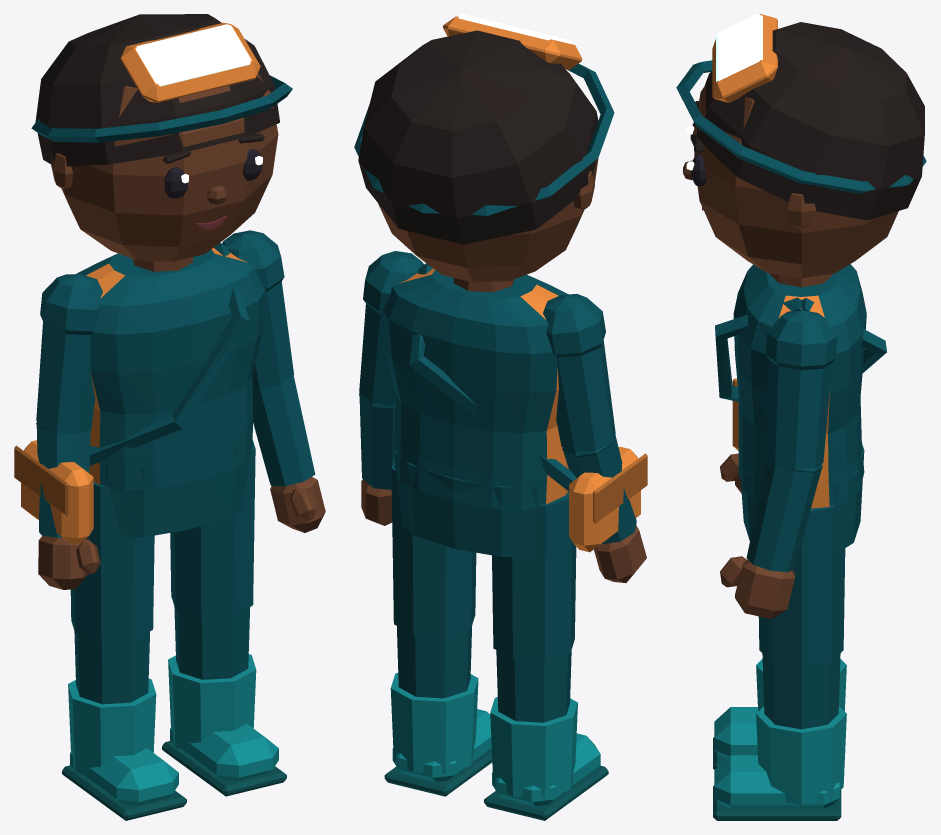
File: cor-k1.glb
The picture shows the model from 3 angles, left to right: view 1: azimuth 30°, elevation 25°; view 2: azimuth 150°, elevation 25°; view 3: azimuth 270°, elevation 25°; orthographic projection.
Parts seen in each view (by area): view 1: torso, kopf, haare, bein_r, bein_l, kopfbedeckung, arm_r, schuh_r, schuh_l, arm_l, accessoire_shoulderbag, becken (+3 smaller); view 2: haare, torso, bein_r, bein_l, arm_r, schuh_r, schuh_l, becken, kopf, arm_l, accessoire_shoulderbag, kopfbedeckung (+3 smaller); view 3: haare, torso, arm_l, bein_l, kopf, schuh_l, kopfbedeckung, hand_l, schuh_r, accessoire_shoulderbag, becken, gesicht (+2 smaller).
Part boxes in pixels (x1,y1,x2,y2): torso: [76, 247, 265, 490]; kopf: [51, 73, 278, 261]; haare: [35, 14, 279, 166]; bein_r: [70, 482, 154, 704]; bein_l: [170, 440, 255, 679]; kopfbedeckung: [31, 22, 292, 142]; arm_r: [36, 274, 102, 537]; schuh_r: [62, 678, 186, 820]; schuh_l: [162, 654, 286, 796]; arm_l: [222, 230, 315, 486]; accessoire_shoulderbag: [14, 243, 249, 544]; becken: [106, 431, 251, 537]; haare: [358, 30, 598, 244]; torso: [381, 268, 568, 509]; bein_r: [492, 491, 576, 722]; bein_l: [391, 459, 476, 698]; arm_r: [543, 294, 636, 543]; schuh_r: [484, 697, 608, 820]; schuh_l: [384, 673, 492, 796]; becken: [395, 450, 540, 556]; kopf: [378, 71, 598, 282]; arm_l: [359, 251, 423, 489]; accessoire_shoulderbag: [409, 263, 647, 552]; kopfbedeckung: [354, 14, 614, 215]; haare: [697, 22, 924, 220]; torso: [733, 264, 866, 508]; arm_l: [746, 310, 837, 572]; bein_l: [758, 504, 845, 729]; kopf: [694, 84, 898, 278]; schuh_l: [713, 706, 846, 820]; kopfbedeckung: [676, 14, 926, 193]; hand_l: [720, 556, 794, 619]; schuh_r: [713, 659, 846, 769]; accessoire_shoulderbag: [715, 297, 886, 450]; becken: [741, 443, 864, 551]; gesicht: [683, 101, 706, 210].
Size of the model in its own units: 0.00972 by 0.0254 by 0.00772.
